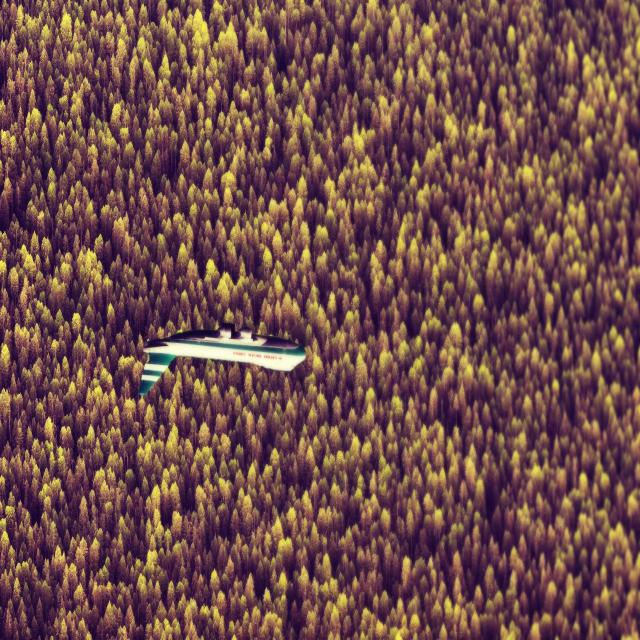airplane: (138, 322, 306, 396)
